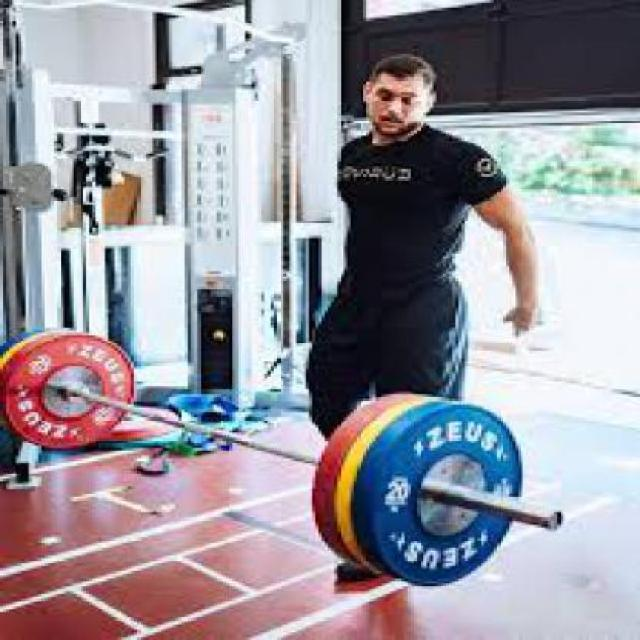barbell: (363, 400, 572, 594)
